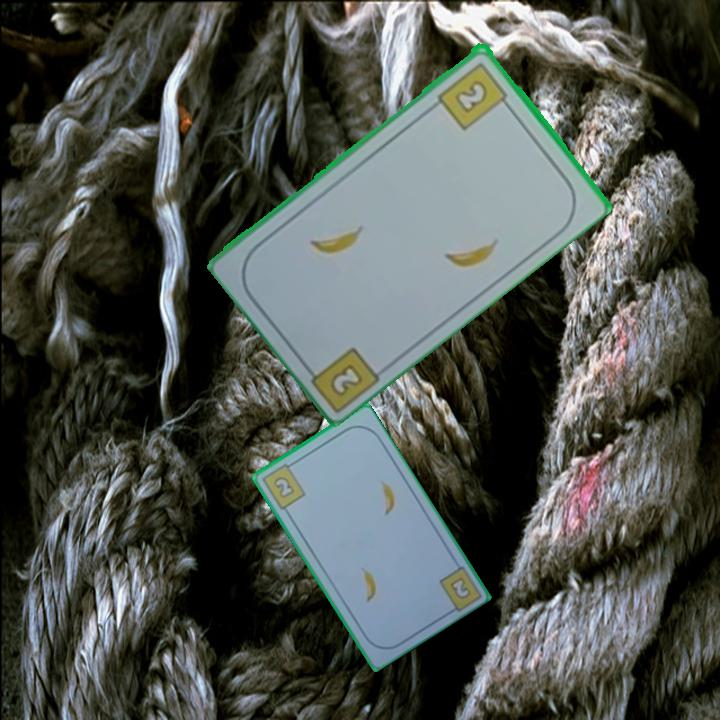2b: (434, 58, 514, 133), (299, 342, 384, 412), (259, 458, 308, 513), (446, 573, 474, 602)
